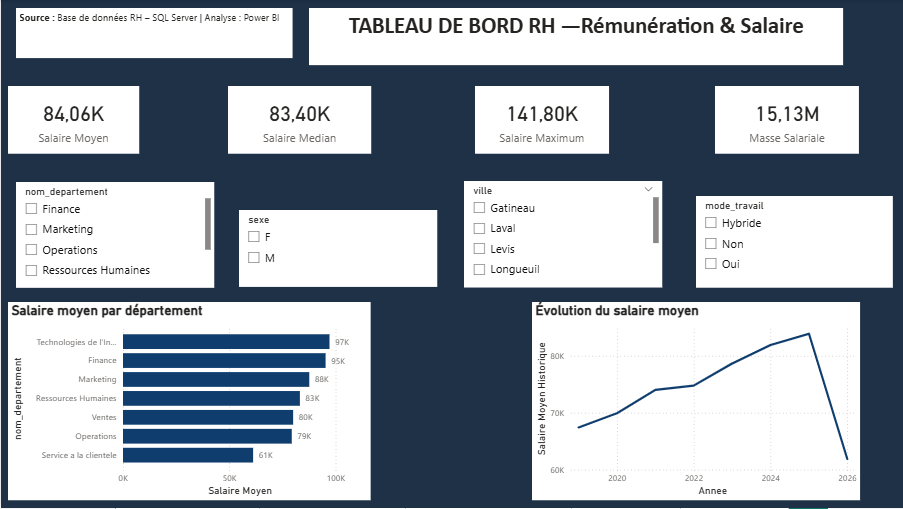

The page's visual inventory and layout, read from the dashboard file:
{"tool":"powerbi","page":{"name":"rémunération & Salaire","canvas":[1280,720],"ordinal":2},"visuals":[{"type":"card","fields":{"Values":["Employes.Salaire Moyen"]},"box":[10.1,122.4,185.8,96.5],"z":0},{"type":"card","fields":{"Values":["Employes.Salaire Median"]},"box":[321.1,122.4,203,96.5],"z":1000},{"type":"card","fields":{"Values":["Employes.Salaire Maximum"]},"box":[672.5,122.4,190.1,96.5],"z":2000},{"type":"card","fields":{"Values":["Employes.Masse Salariale"]},"box":[1012.3,122.4,204.5,96.5],"z":3000},{"type":"clusteredBarChart","title":"Salaire moyen par département","fields":{"Category":["Departements.nom_departement"],"Y":["Employes.Salaire Moyen"]},"box":[10.1,427.7,514.1,280.8],"z":4000},{"type":"slicer","fields":{"Values":["Departements.nom_departement"]},"box":[21.6,257.8,280.8,149.8],"z":5000},{"type":"slicer","fields":{"Values":["Employes.sexe"]},"box":[337,298.1,280.8,109.4],"z":6000},{"type":"slicer","fields":{"Values":["Employes.ville"]},"box":[656.6,256.3,280.8,151.2],"z":7000},{"type":"slicer","fields":{"Values":["Employes.mode_travail"]},"box":[985,277.9,279.4,129.6],"z":8000},{"type":"lineChart","title":"Évolution du salaire moyen","fields":{"Y":["HistoriqueSalaire.Salaire Moyen Historique"],"Category":["Calendrier.Annee"]},"box":[752.6,428,464.9,280.6],"z":9000},{"type":"textbox","box":[436.3,11.5,757.4,80.6],"z":11000},{"type":"textbox","box":[21.6,11.5,391.7,70.6],"z":12000}]}

Visuals, with their boxes in screenshot pixels (x1, y1, x2, y2), scaled from the page's 1280x720 canvas onto the 903x509 screenshot:
card - Employes.Salaire Moyen: bbox(7, 87, 138, 155)
card - Employes.Salaire Median: bbox(227, 87, 370, 155)
card - Employes.Salaire Maximum: bbox(474, 87, 609, 155)
card - Employes.Masse Salariale: bbox(714, 87, 858, 155)
"Salaire moyen par département" clusteredBarChart: bbox(7, 302, 370, 501)
slicer - Departements.nom_departement: bbox(15, 182, 213, 288)
slicer - Employes.sexe: bbox(238, 211, 436, 288)
slicer - Employes.ville: bbox(463, 181, 661, 288)
slicer - Employes.mode_travail: bbox(695, 196, 892, 288)
"Évolution du salaire moyen" lineChart: bbox(531, 303, 859, 501)
textbox: bbox(308, 8, 842, 65)
textbox: bbox(15, 8, 292, 58)
